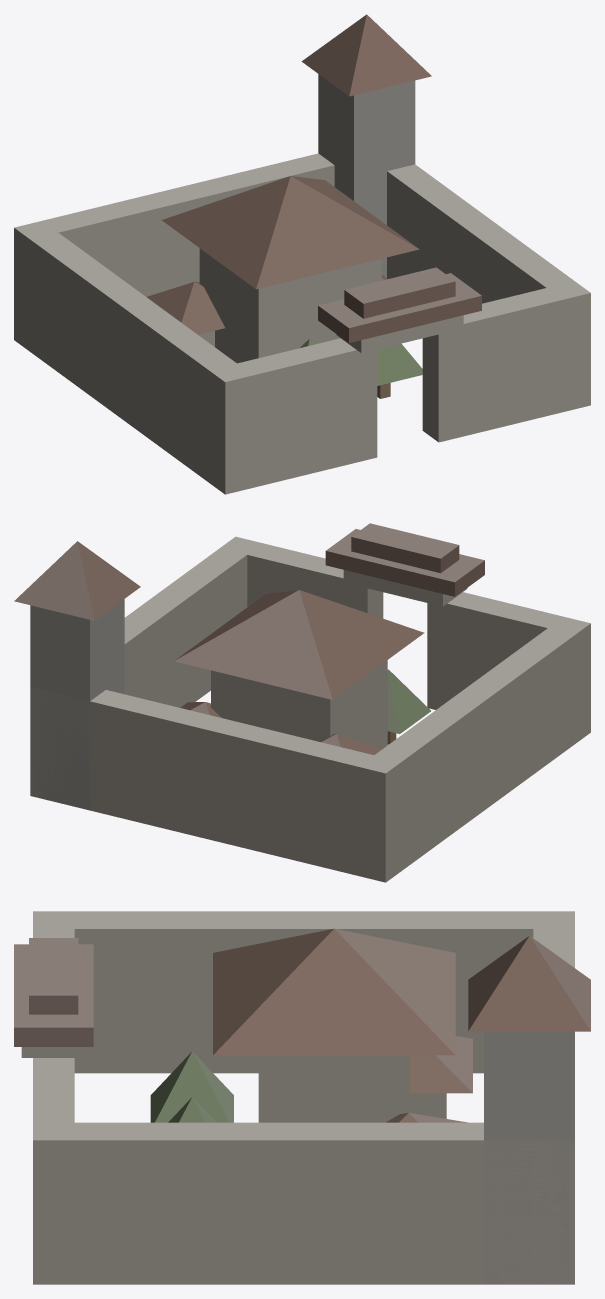
Rendered from county.gltf.
3 views of the same model, one above another, from view 1: azimuth 30°, elevation 25°; view 2: azimuth 150°, elevation 25°; view 3: azimuth 270°, elevation 25° (orthographic). The views are drawn at different scales.
Visible parts, largest first — view 1: building-county; view 2: building-county; view 3: building-county.
Boxes of the visible parts, x1,y1,x2,y2 form: building-county: [14, 14, 590, 494]; building-county: [14, 523, 590, 882]; building-county: [14, 911, 590, 1284].
Size of the model in its own units: 0.736 by 0.48 by 0.761.
